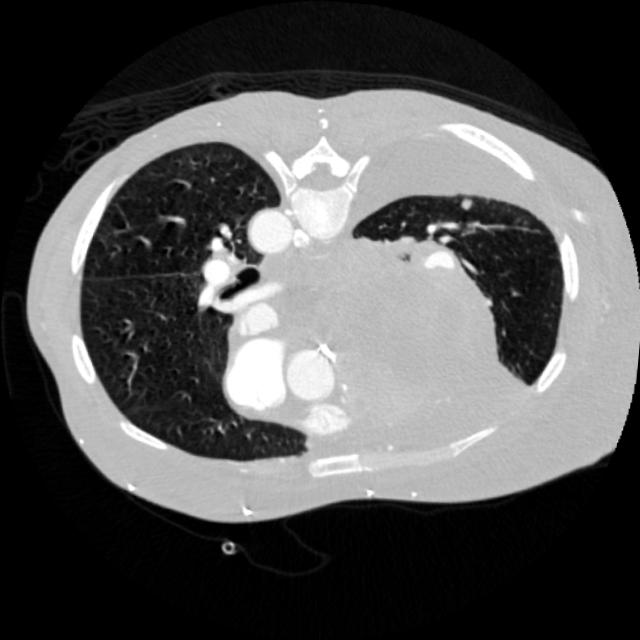nodule: (450, 188, 483, 222)
